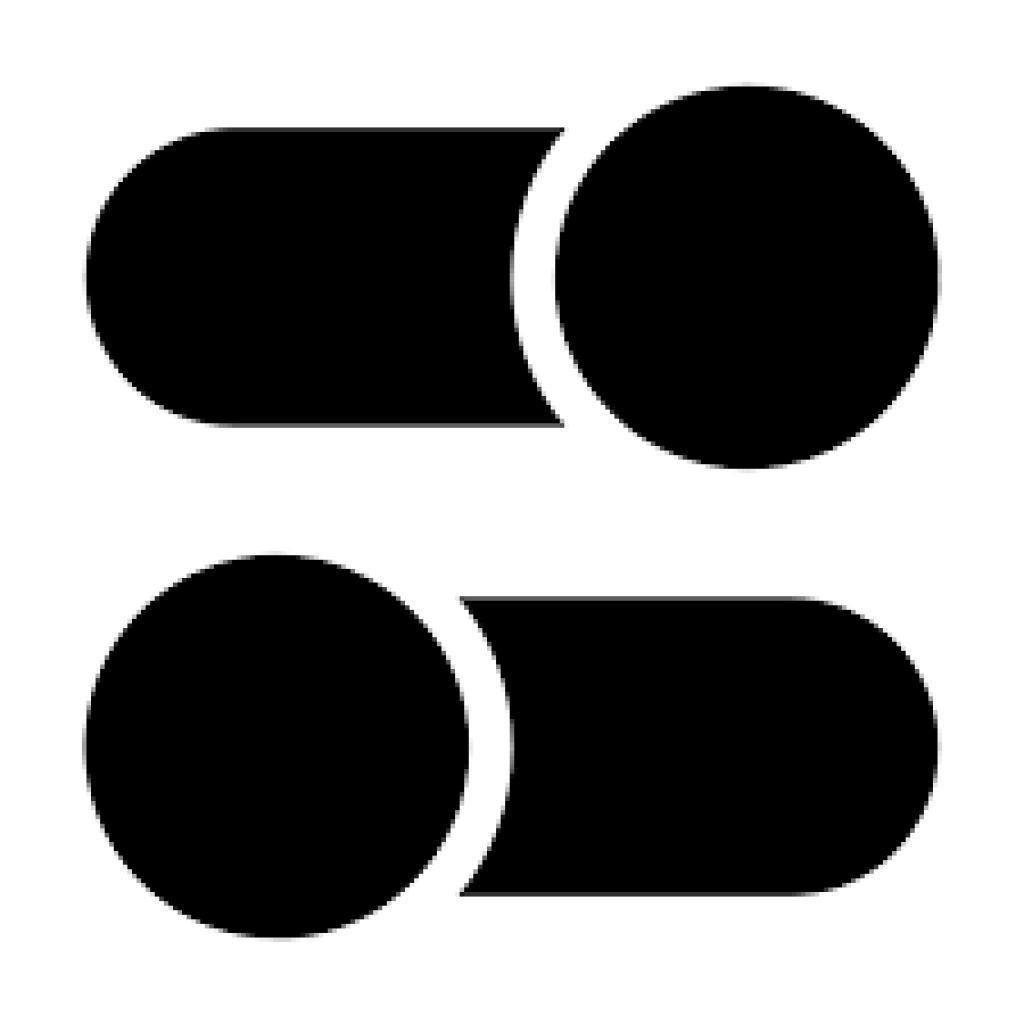switch: (80, 552, 939, 944), (84, 85, 941, 473)
